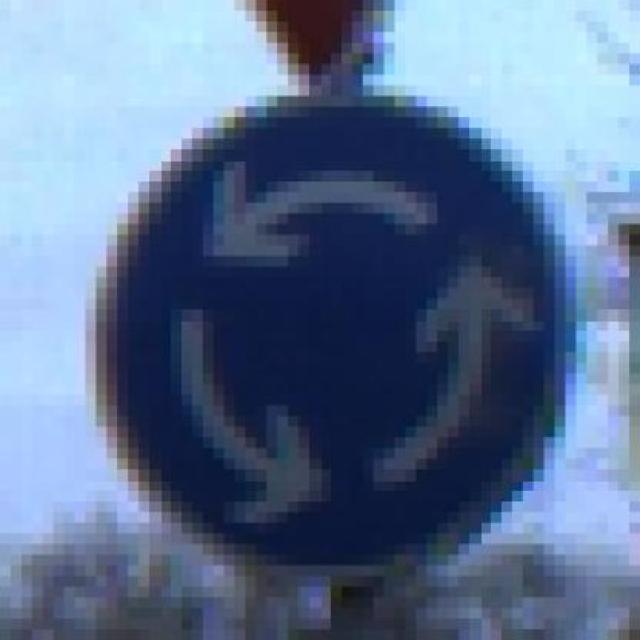Round-About: (75, 75, 587, 598)
